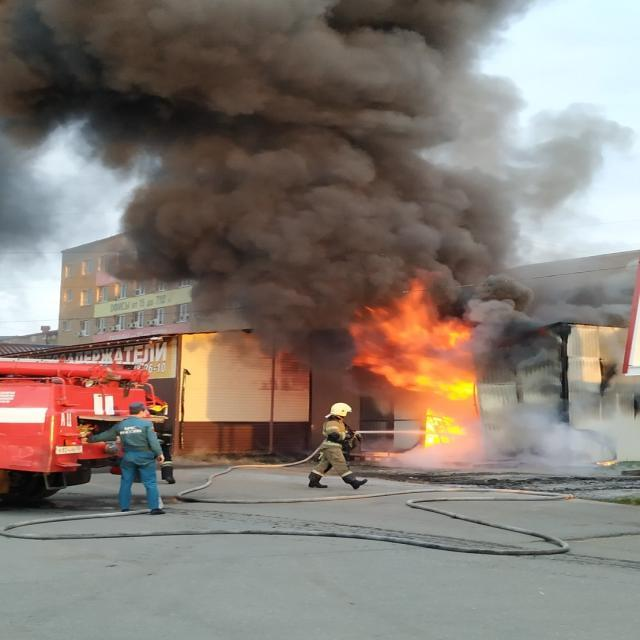Fire: (347, 270, 476, 398), (423, 410, 467, 447)
Smoke: (0, 0, 640, 387), (418, 402, 618, 480)
